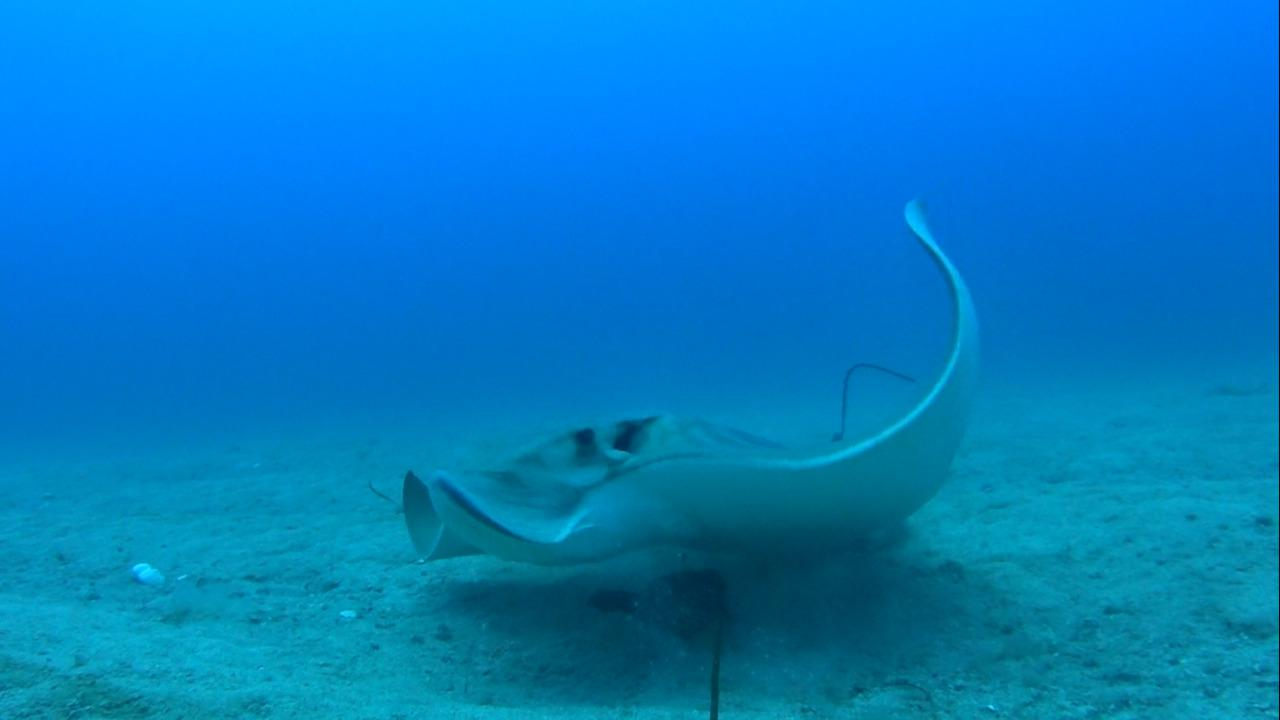myliobatis: (369, 192, 1001, 595)
